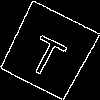T: (23, 26, 72, 80)
